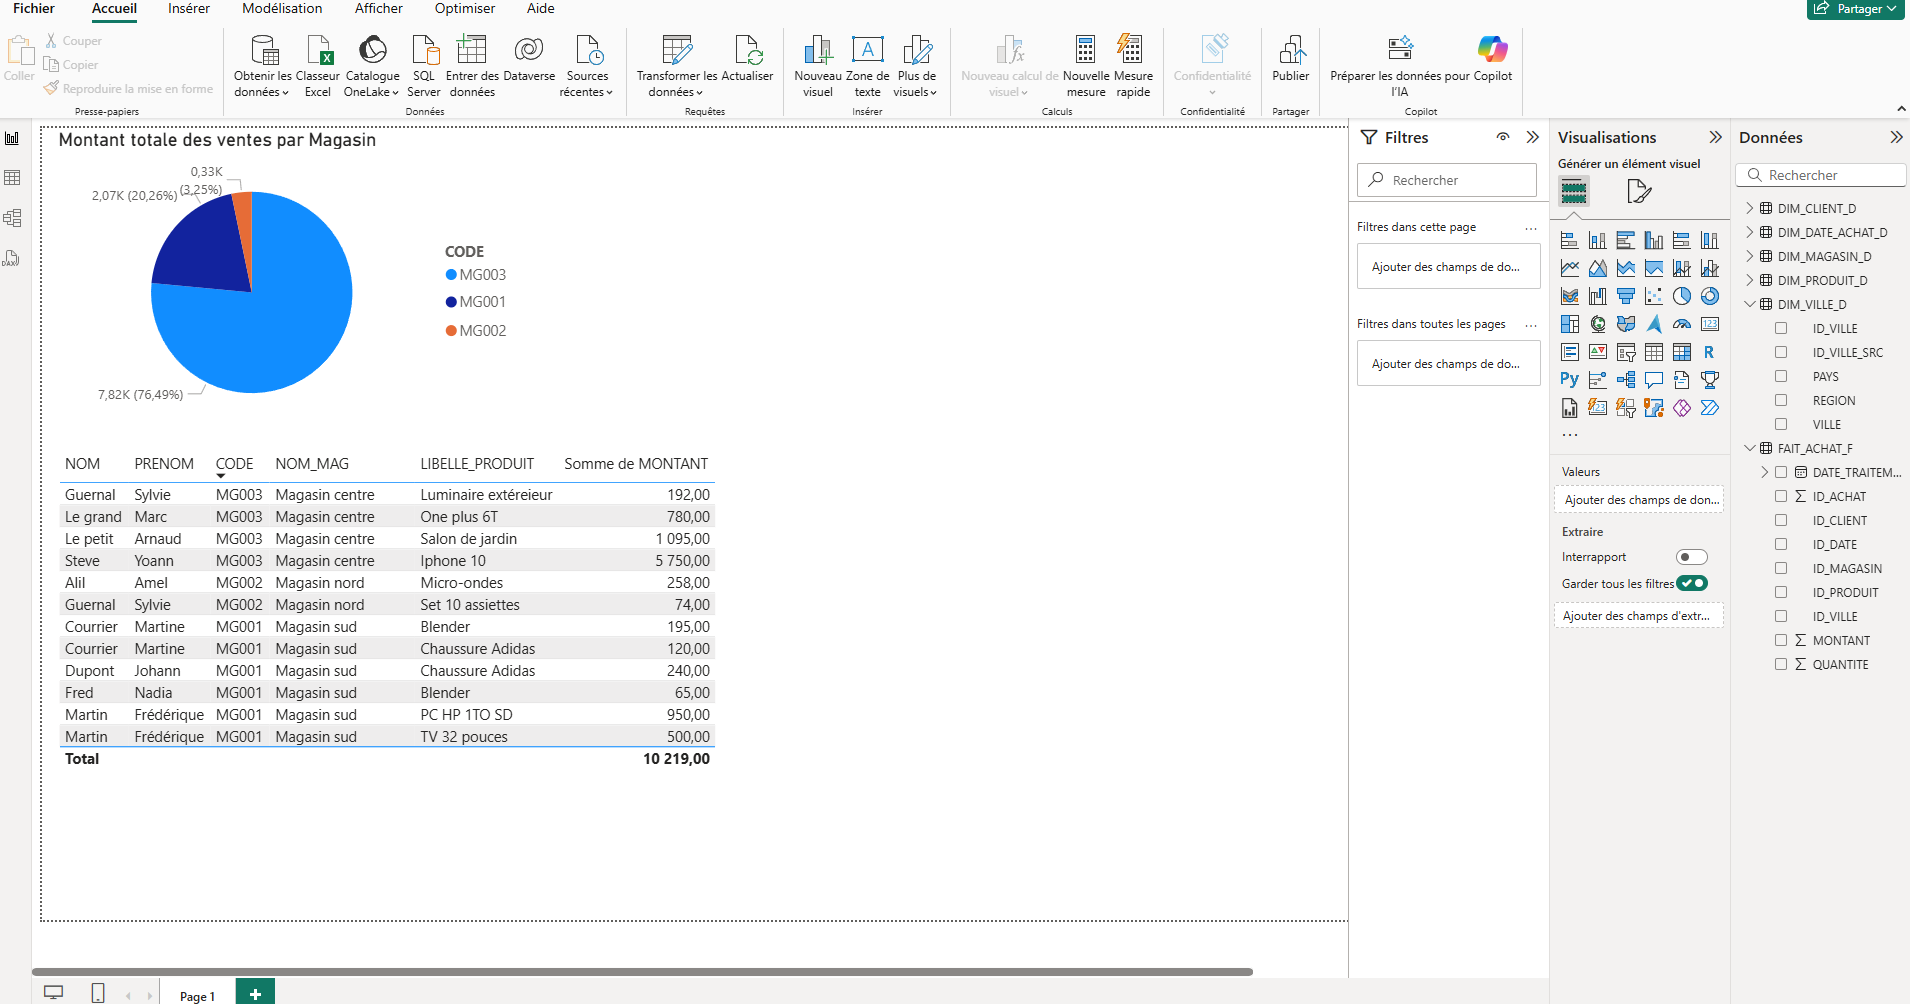

The page's visual inventory and layout, read from the dashboard file:
{"tool":"powerbi","page":{"name":"Page 1","canvas":[1280,720],"ordinal":0},"visuals":[{"type":"pieChart","fields":{"Category":["DIM_MAGASIN_D.CODE"],"Series":["DIM_MAGASIN_D.NOM"],"Y":["Sum(FAIT_ACHAT_F.MONTANT)"]},"box":[10,0,280,280],"z":0},{"type":"tableEx","fields":{"Values":["DIM_CLIENT_D.NOM","DIM_CLIENT_D.PRENOM","DIM_MAGASIN_D.CODE","DIM_MAGASIN_D.NOM","DIM_PRODUIT_D.LIBELLE_PRODUIT","Sum(FAIT_ACHAT_F.MONTANT)"]},"box":[9.7,289.8,677.9,352.1],"z":1000},{"type":"filledMap","fields":{"Category":["DIM_VILLE_D.VILLE"]},"box":[698,0,280,280],"z":2000}]}

Visuals, with their boxes on the page's 1280x720 design canvas (x1, y1, x2, y2). These are canvas units, not pixel positions in the 1910x1004 screenshot, which may show the page scaled, cropped or inside an application window:
pieChart - DIM_MAGASIN_D.CODE x DIM_MAGASIN_D.NOM: (10, 0, 290, 280)
tableEx - DIM_CLIENT_D.NOM x DIM_CLIENT_D.PRENOM: (10, 290, 688, 642)
filledMap - DIM_VILLE_D.VILLE: (698, 0, 978, 280)
